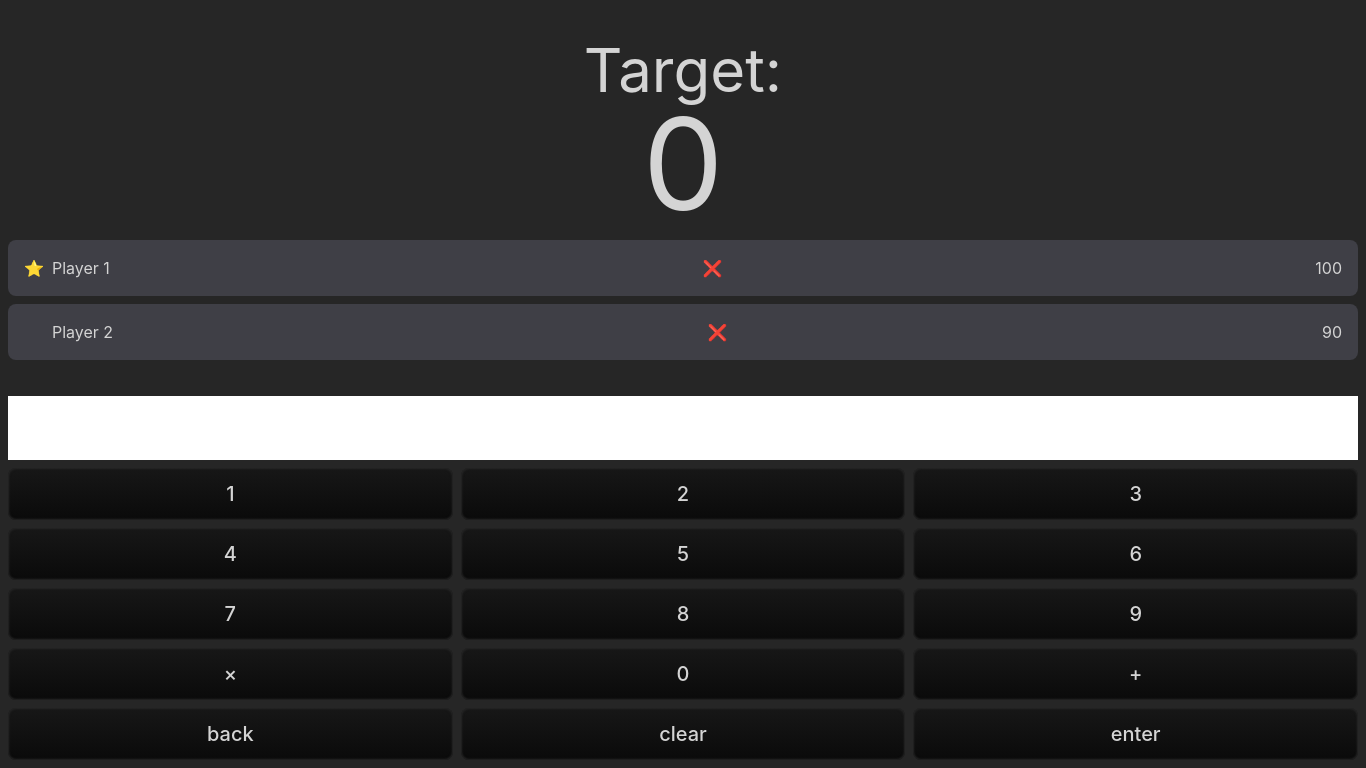
Test: LegsScoreboard › updates score when keypad is used
This screenshot has width=1366, height=768.
Step 1. Click the button "1" → (230, 494), box [8,468,453,520]
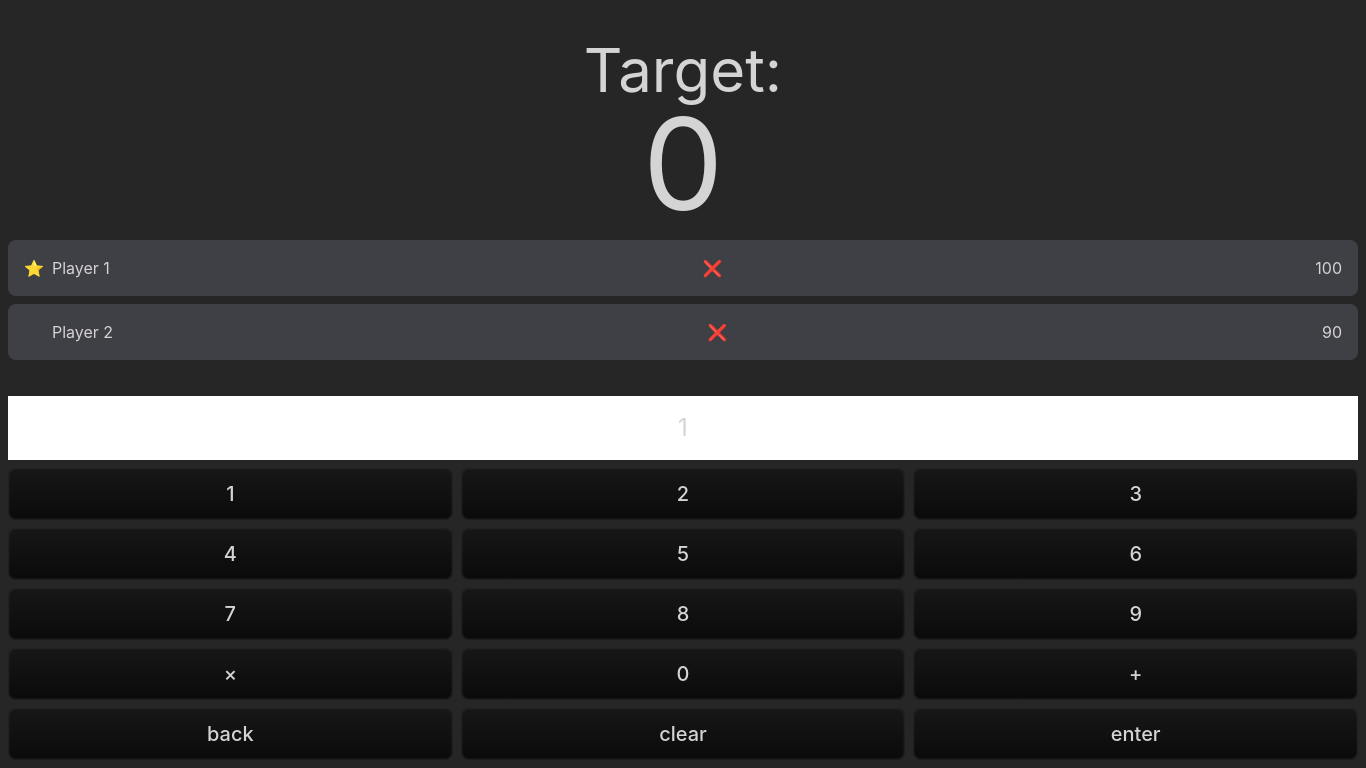
Step 2. Click the button "2" → (683, 494), box [461,468,905,520]
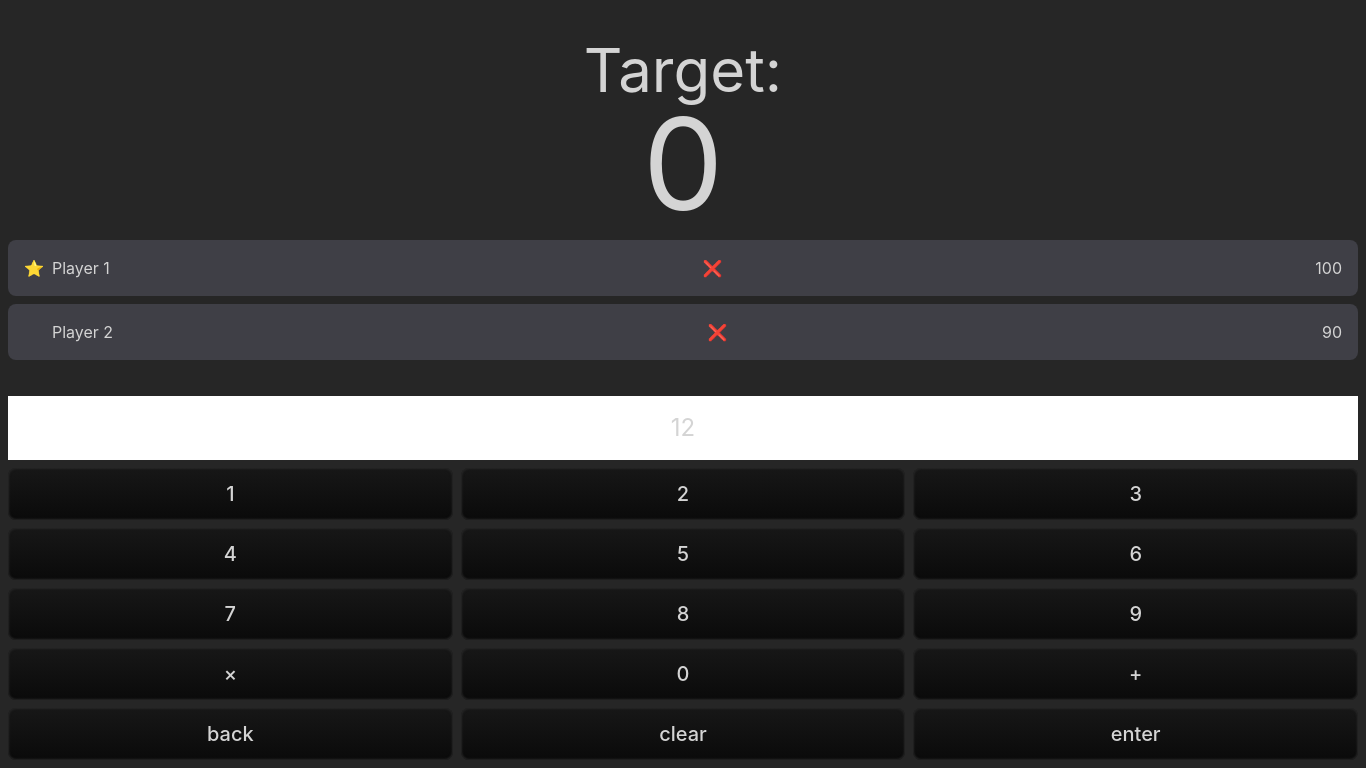
Step 3. Click the button "3" → (1136, 494), box [913,468,1358,520]
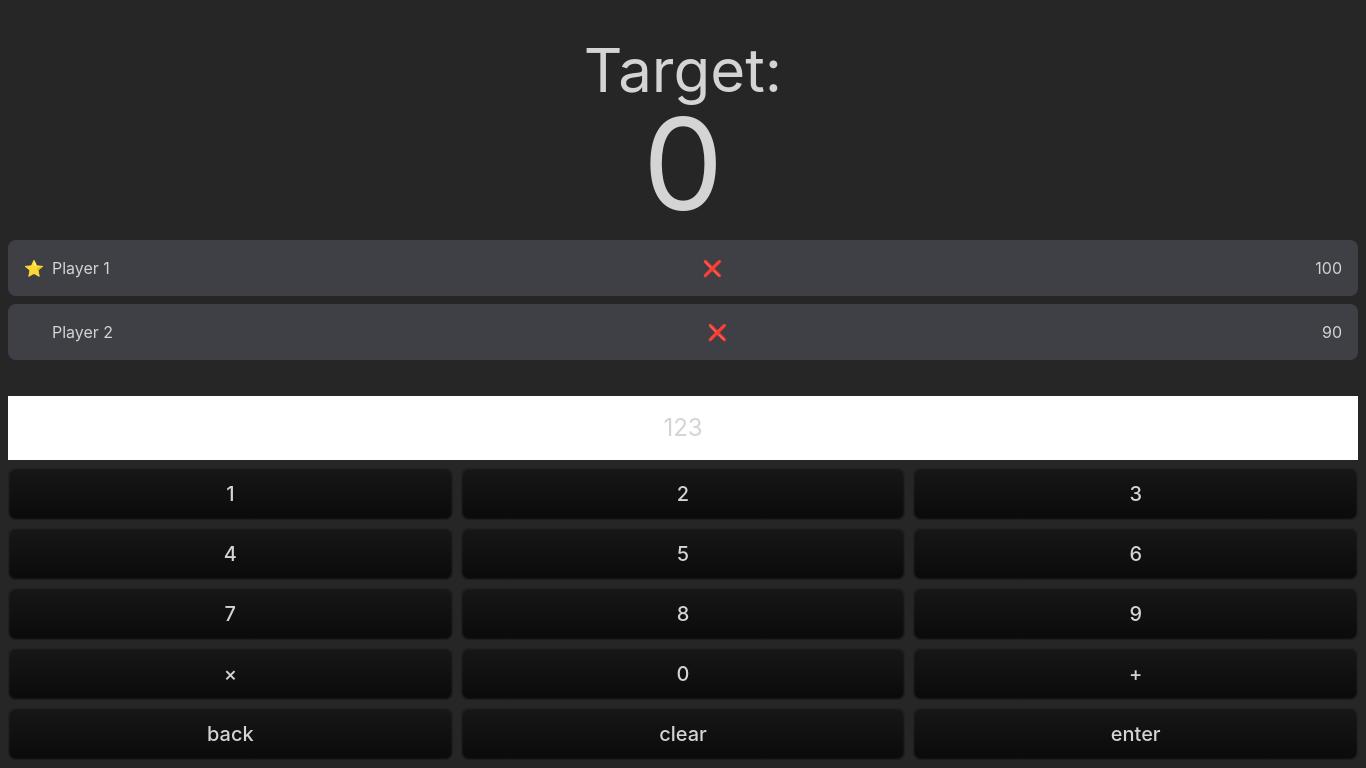
Check: the field showing "123" is shown, box [8,396,1358,460]
